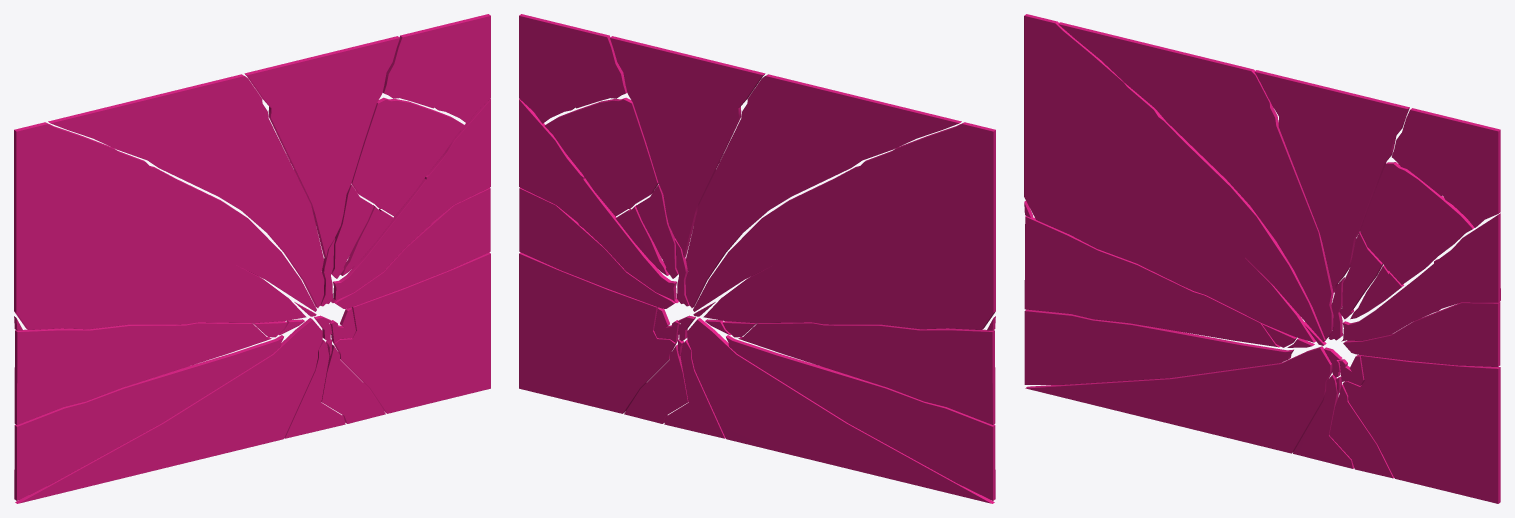
File: glass3.glb
3 views of the same model, side by side, from view 1: azimuth 30°, elevation 25°; view 2: azimuth 150°, elevation 25°; view 3: azimuth 330°, elevation 25° (orthographic).
Visible parts, largest first — view 1: Plane; view 2: Plane; view 3: Plane.
Part boxes in pixels (x1,y1,x2,y2): Plane: (14,14,490,503); Plane: (519,14,995,503); Plane: (1024,14,1500,503).
Size of the model in its own units: 3.33 by 2.5 by 0.0305.
